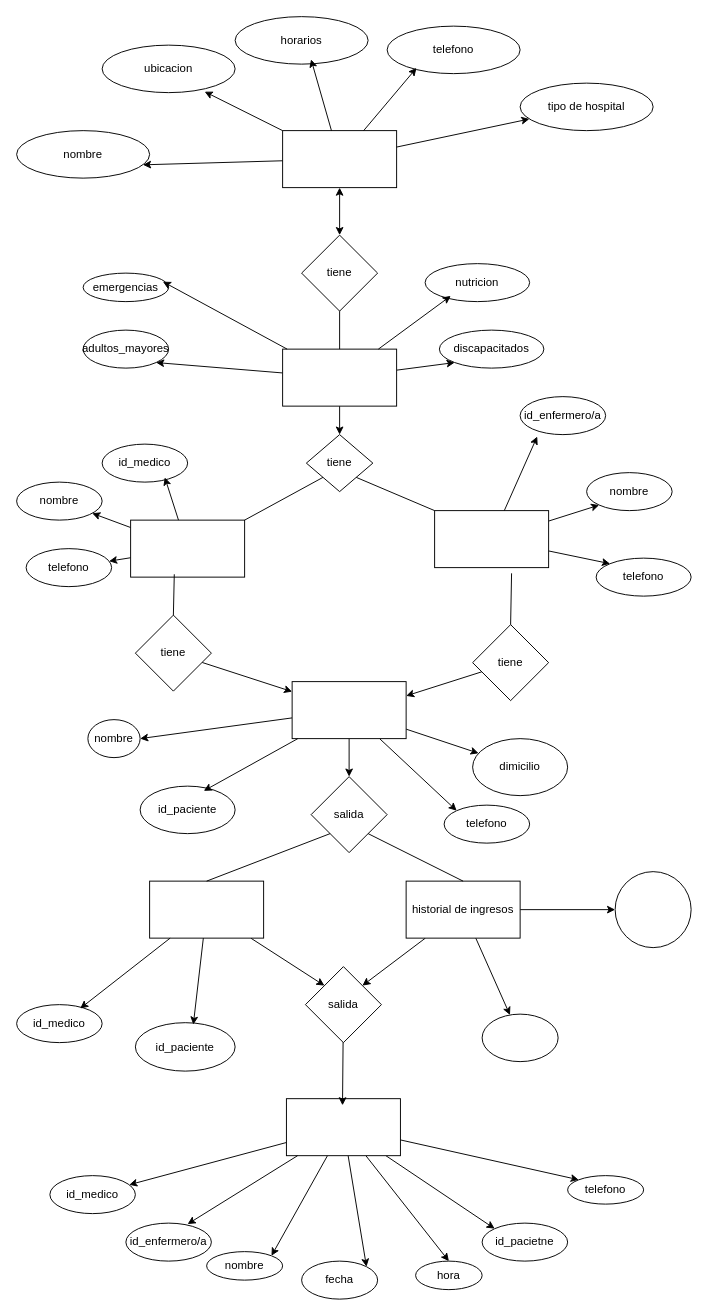
Some shapes in this 708 by 1316 pixel diagram are drawn without their labels. The centre of each missing label's shape, as x and y in pixels:
area: [339,377]
Consulta: [206,909]
documentos: [342,1127]
enfermero/a: [491,539]
fecha y hora: [519,1037]
hospital: [339,159]
medico: [187,548]
paciente: [348,710]
pacientes: [652,909]
